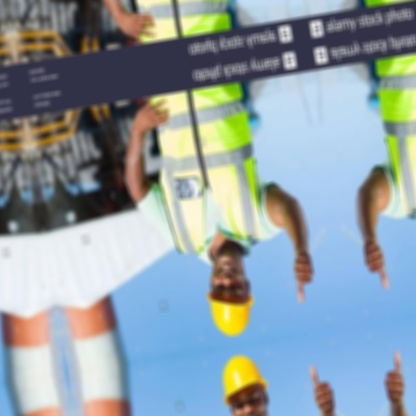vest: (147, 83, 271, 261)
yellow: (203, 280, 262, 343)
